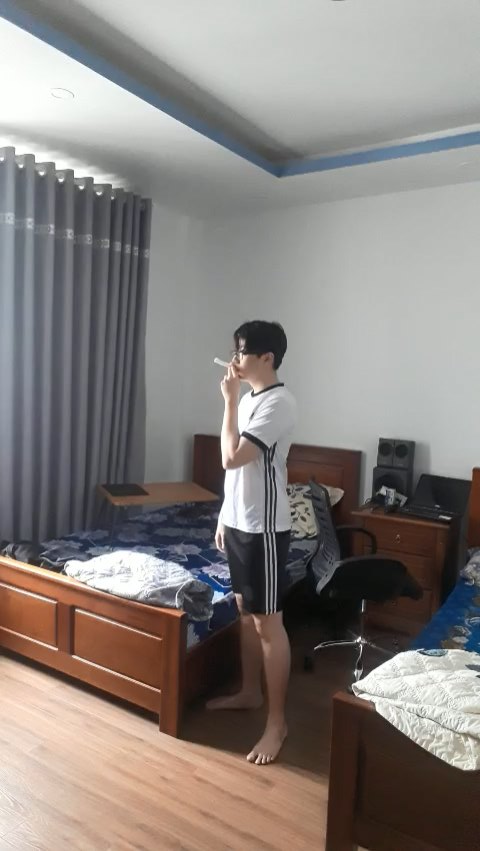cigarette: (212, 356, 230, 367)
person: (204, 311, 309, 782)
